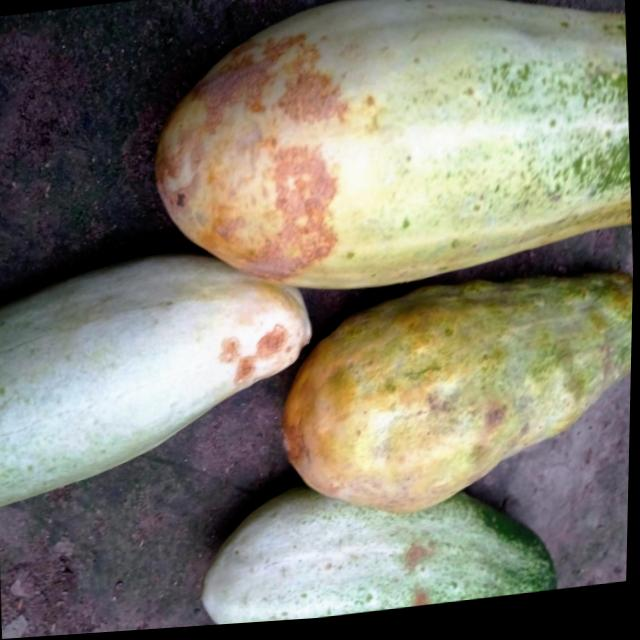Belly-Rot: (149, 32, 347, 308), (217, 315, 290, 397), (403, 539, 440, 614), (487, 406, 513, 436)
